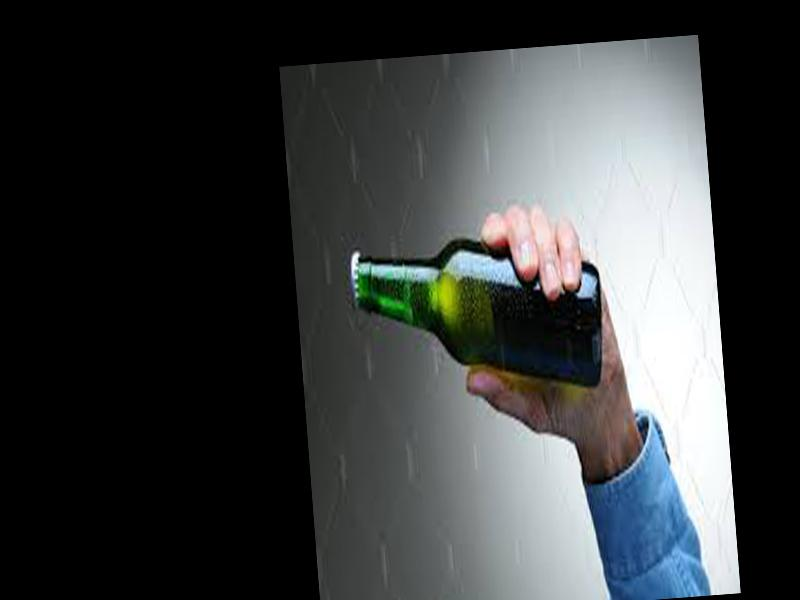Beer: (345, 230, 609, 407)
